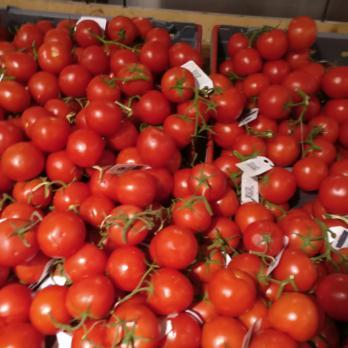Tomato: (4, 160, 348, 348), (3, 25, 204, 168), (228, 26, 348, 161)
